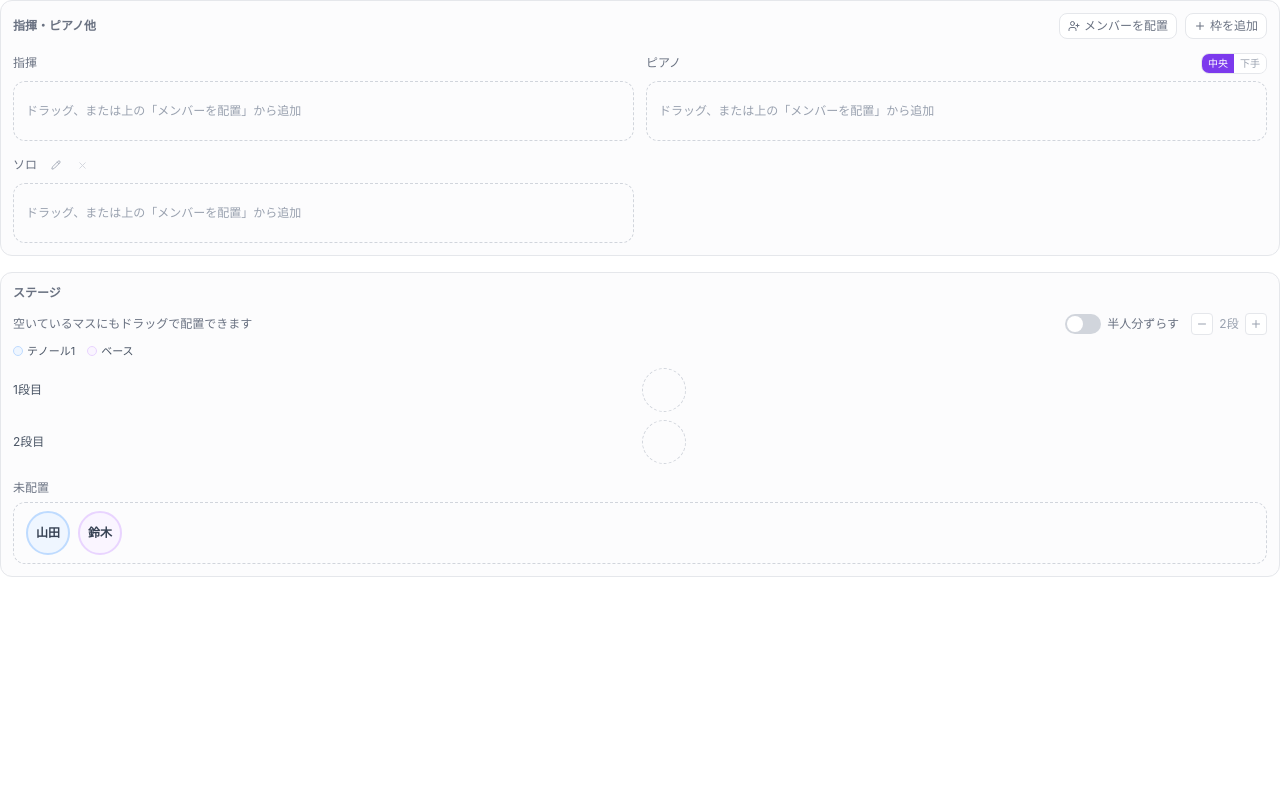
FormationEditor（枠の追加・編集・削除） › 枠名が空なら保存せず理由を出し、Esc で取り消せる
The width and height of the screenshot is (1280, 800).
Click the button named "ソロの枠名を編集": (56, 165) [49,158,63,172]
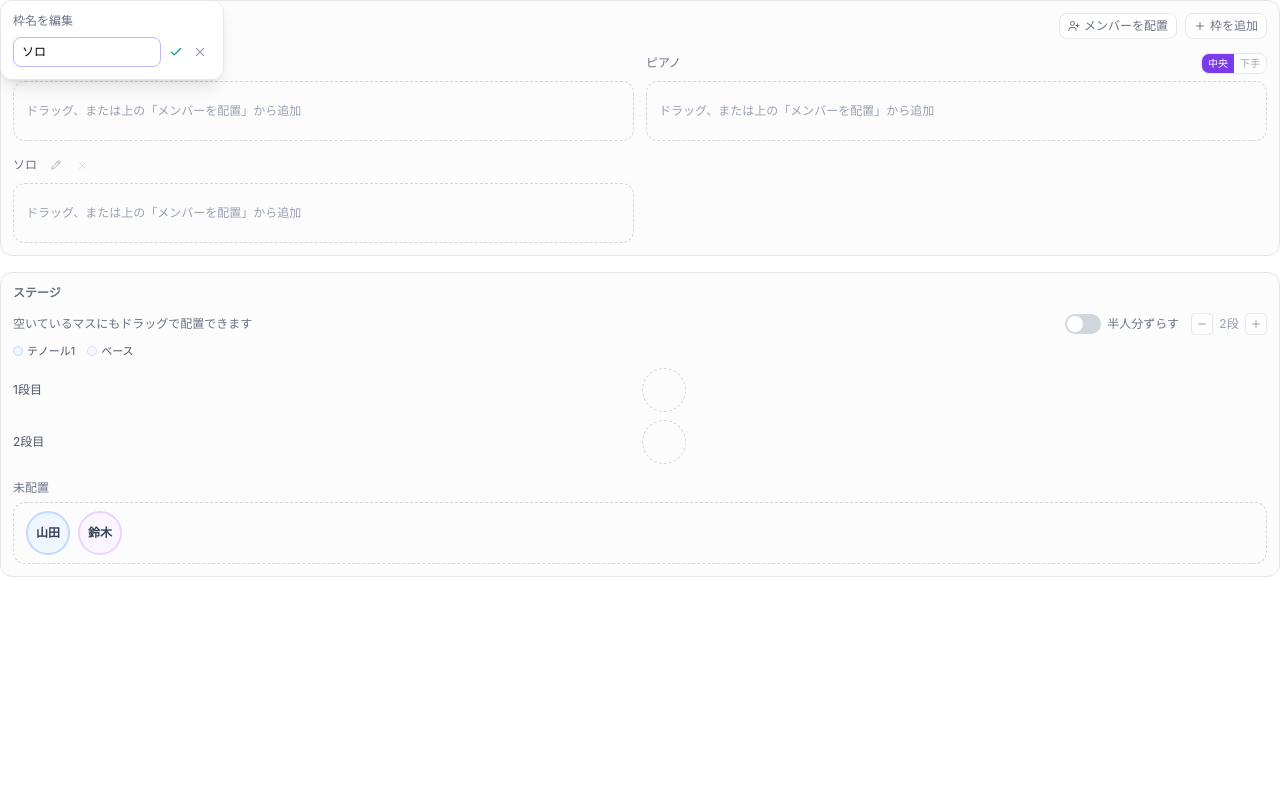
Clear the field named "枠名": (87, 52) [13,37,161,67]
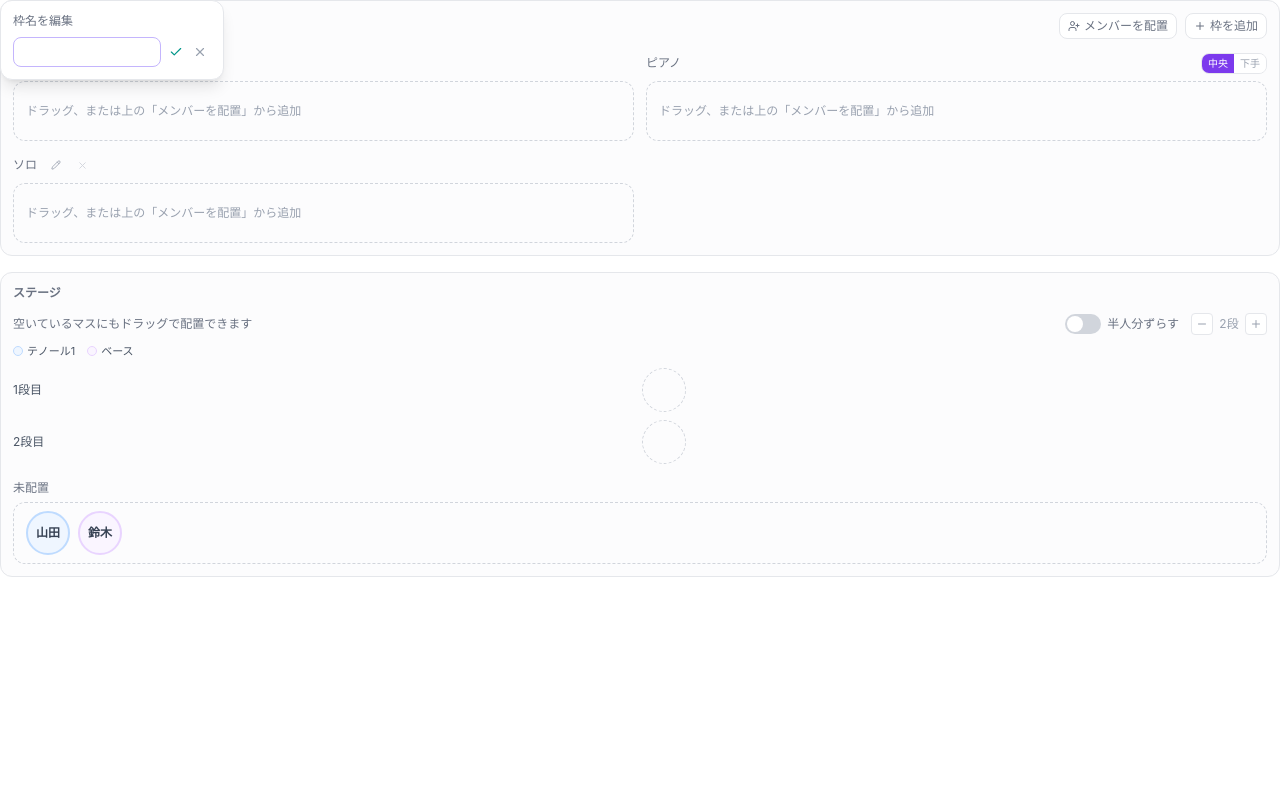
Click the button named "枠名を保存": (176, 52) [165,41,187,63]
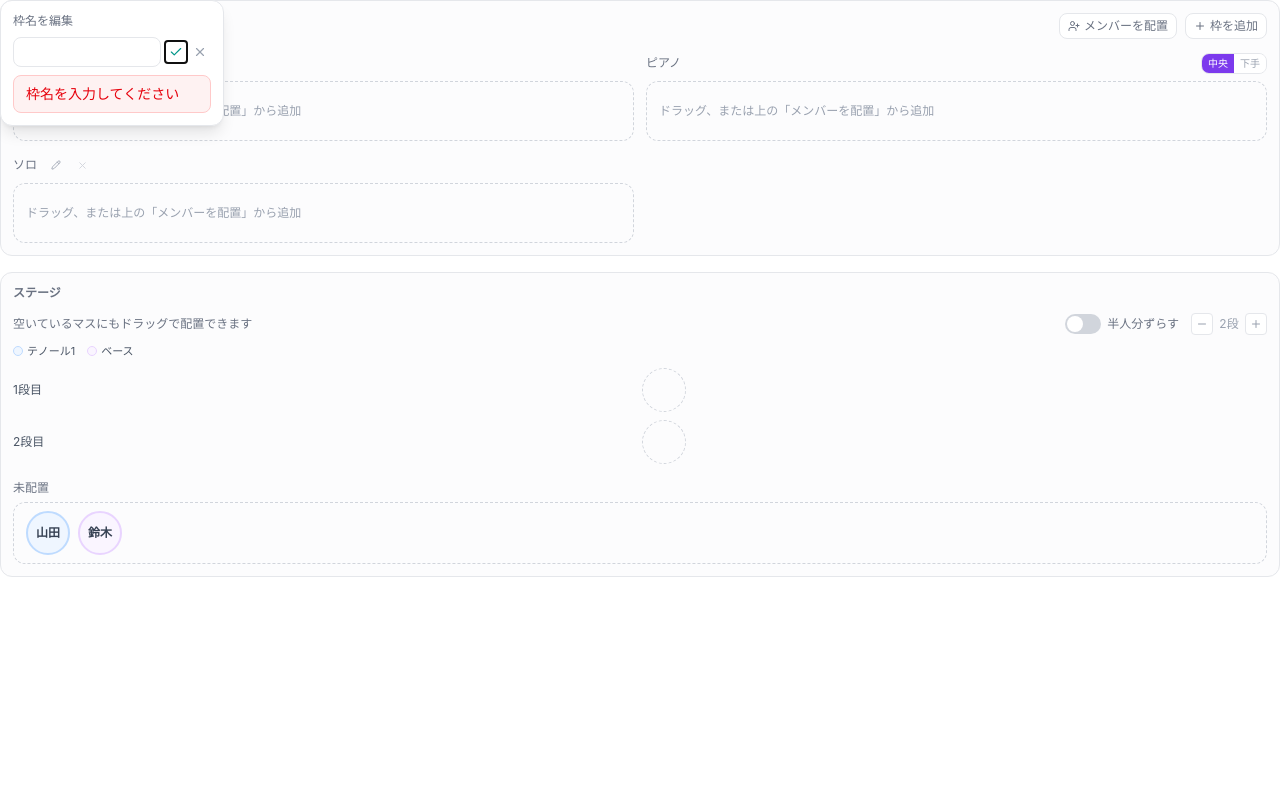
Result: the message reads "枠名を入力してください" at [26,85,179,102]
Click the field named "枠名": (87, 52) [13,37,161,67]
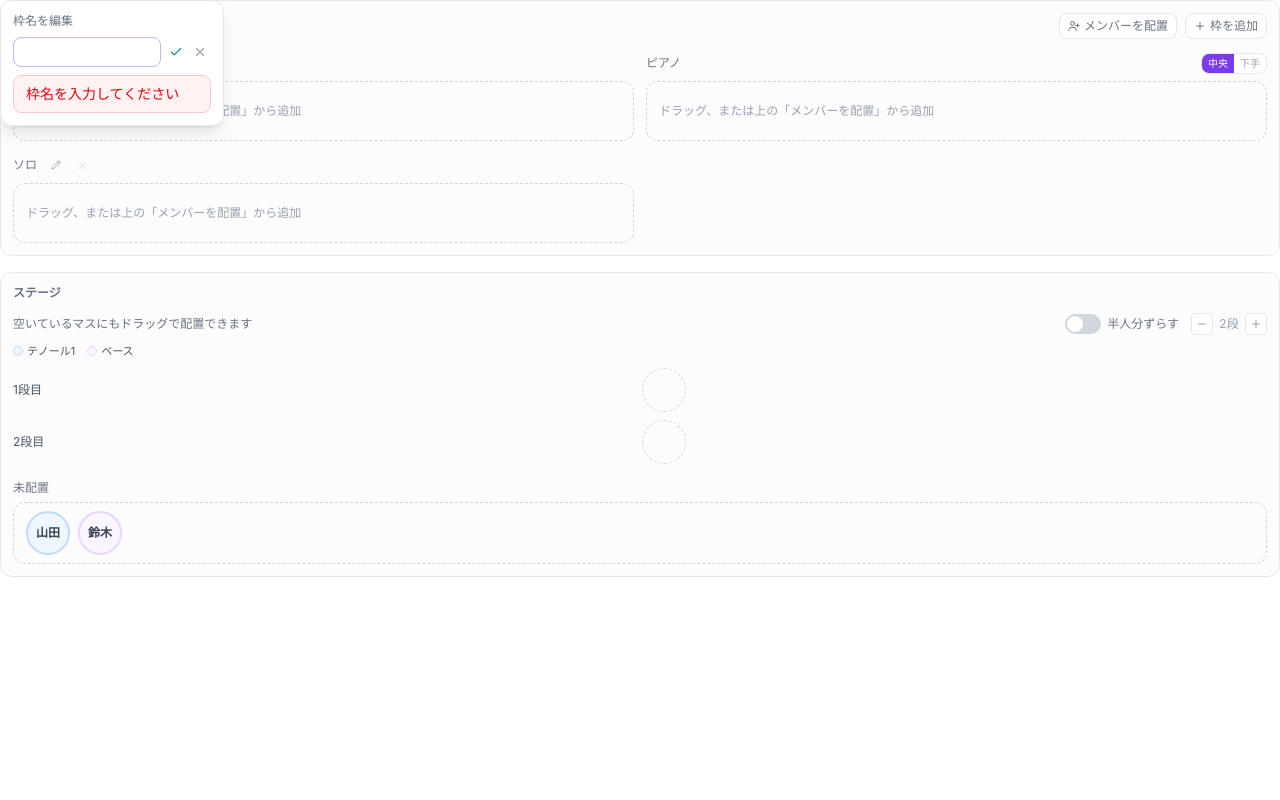
Press Escape
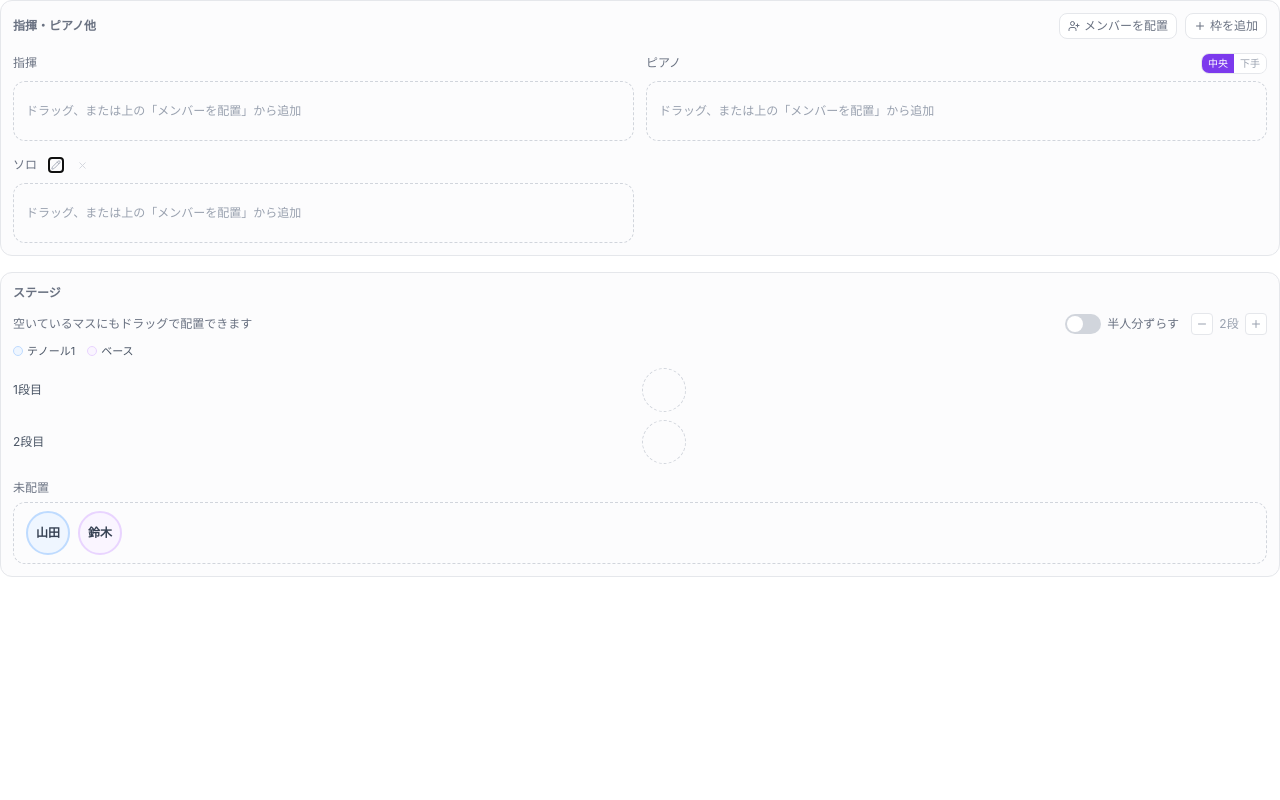
Expected: the text "ソロ" is shown, [13,157,37,173]
Result: the text "枠名" is gone
